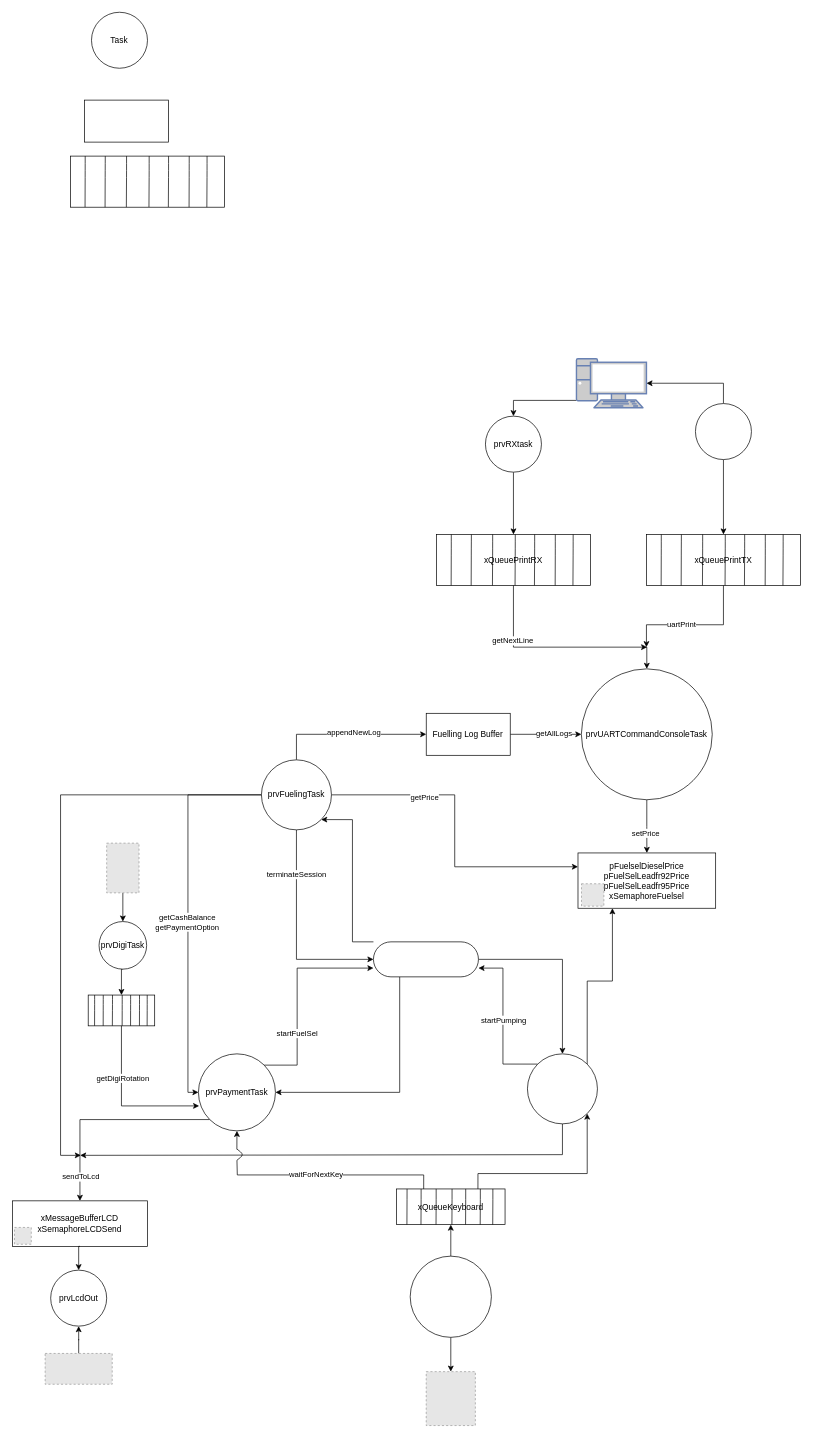
Some shapes in this 813 by 1438 pixel diagram are drawn without their labels. Grey dashed boxes stand in for pictures. The centre of each missing label's shape, as x and y in pixels:
"Buffer" goes at point (126, 120).
"prvFuelselTask" goes at point (562, 1088).
"prvKeyboardTask" goes at point (450, 1296).
"prvTXTask" goes at point (723, 431).
"Queue" goes at point (147, 181).
"xQueueDigi" goes at point (121, 1010).
"xTaskEventGroup" goes at point (425, 959).
